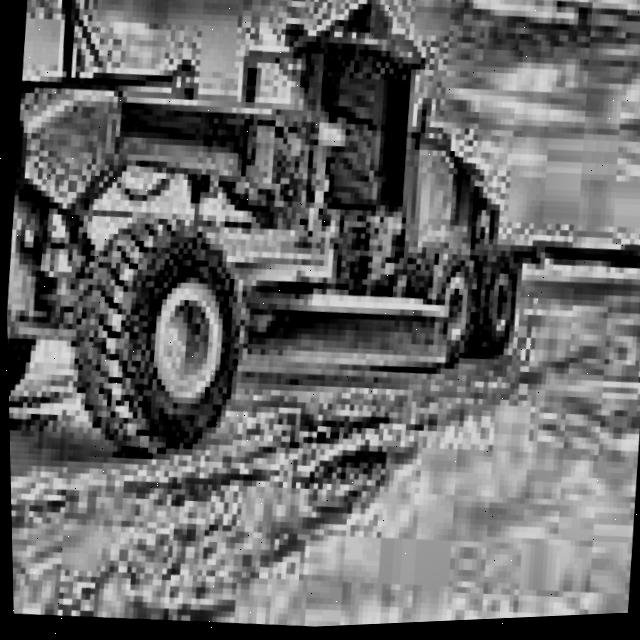buldozerpayloadergrader: (0, 0, 565, 508)
